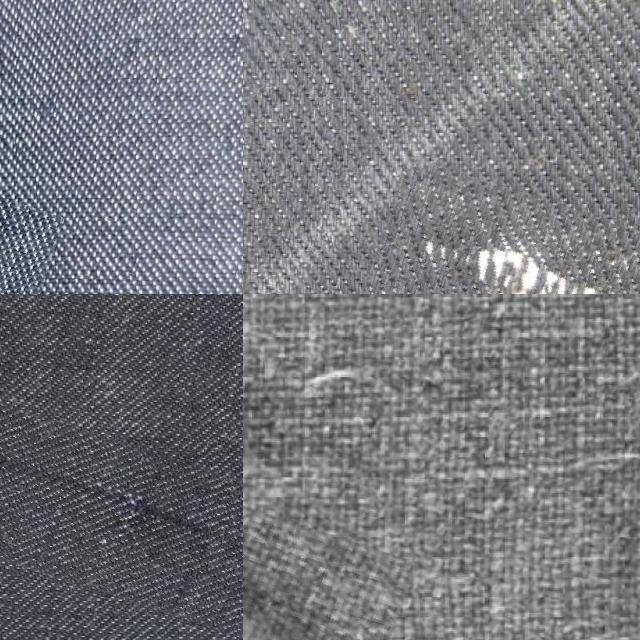Thread_other: (0, 396, 243, 627), (349, 177, 640, 294)
